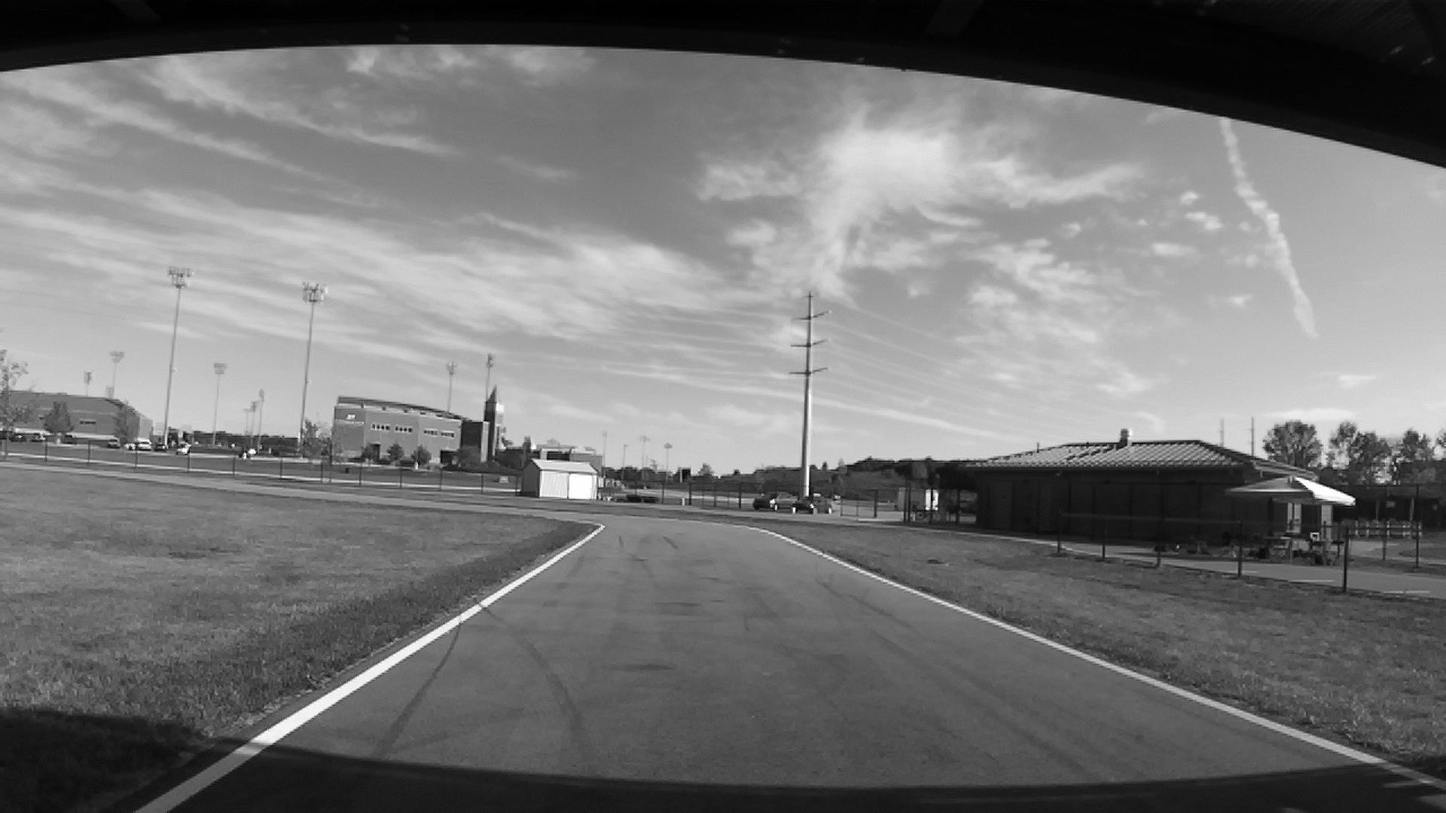white-line: (739, 525, 1445, 789), (139, 524, 603, 812)
